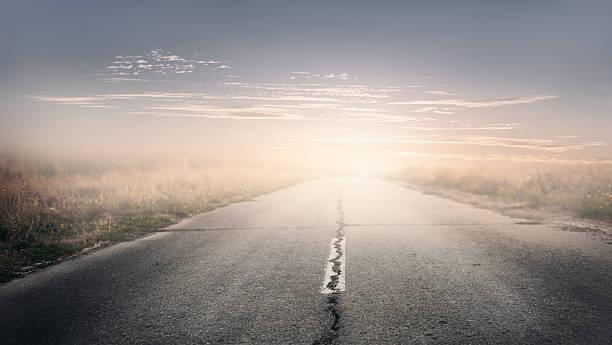faded_road_lines: (321, 232, 350, 300)
